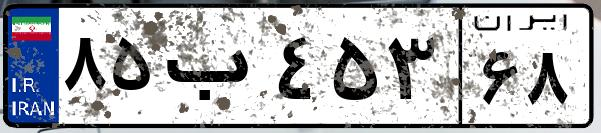3: (385, 28, 445, 110)
4: (270, 28, 330, 110)
5: (330, 28, 385, 110), (110, 28, 158, 98)
6: (475, 38, 525, 113)
8: (57, 26, 110, 100), (525, 38, 570, 115)
ب: (158, 20, 270, 120)
